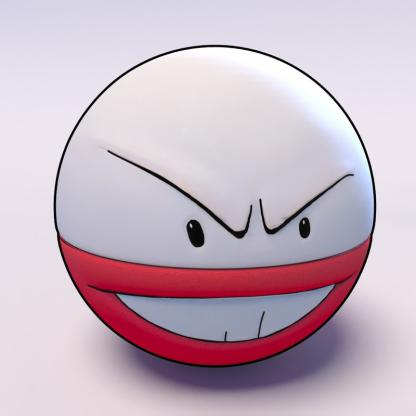Electrode: (60, 44, 383, 379)
